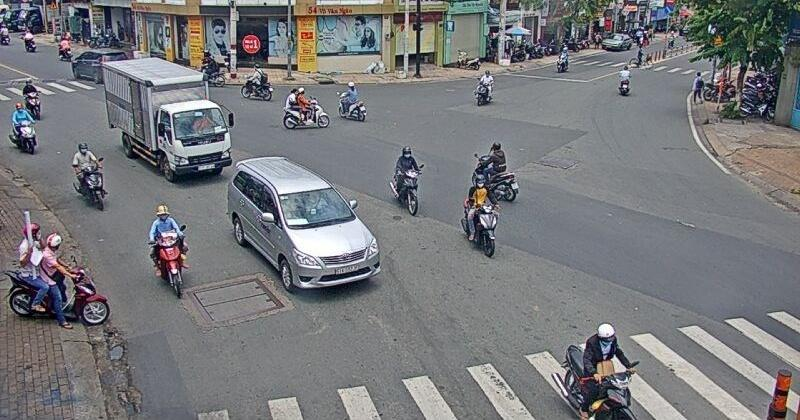xe hoi: (229, 160, 384, 294)
xe may: (11, 209, 108, 325), (560, 324, 639, 420), (146, 198, 189, 296), (461, 180, 501, 256), (69, 142, 108, 209), (393, 147, 424, 213), (282, 86, 328, 128), (8, 103, 39, 154), (337, 80, 368, 121)
xe tai: (101, 55, 231, 183)
